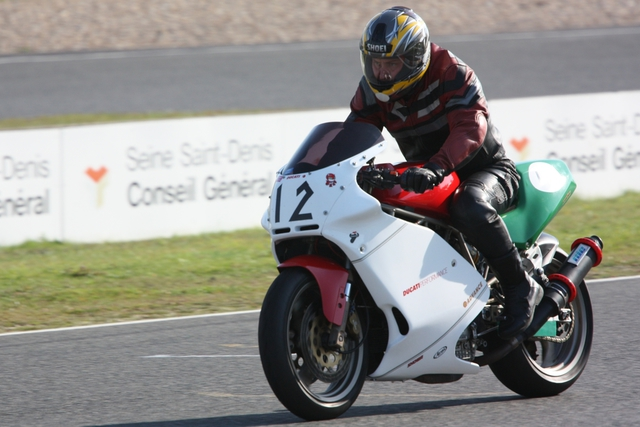helmet: (354, 13, 436, 87)
